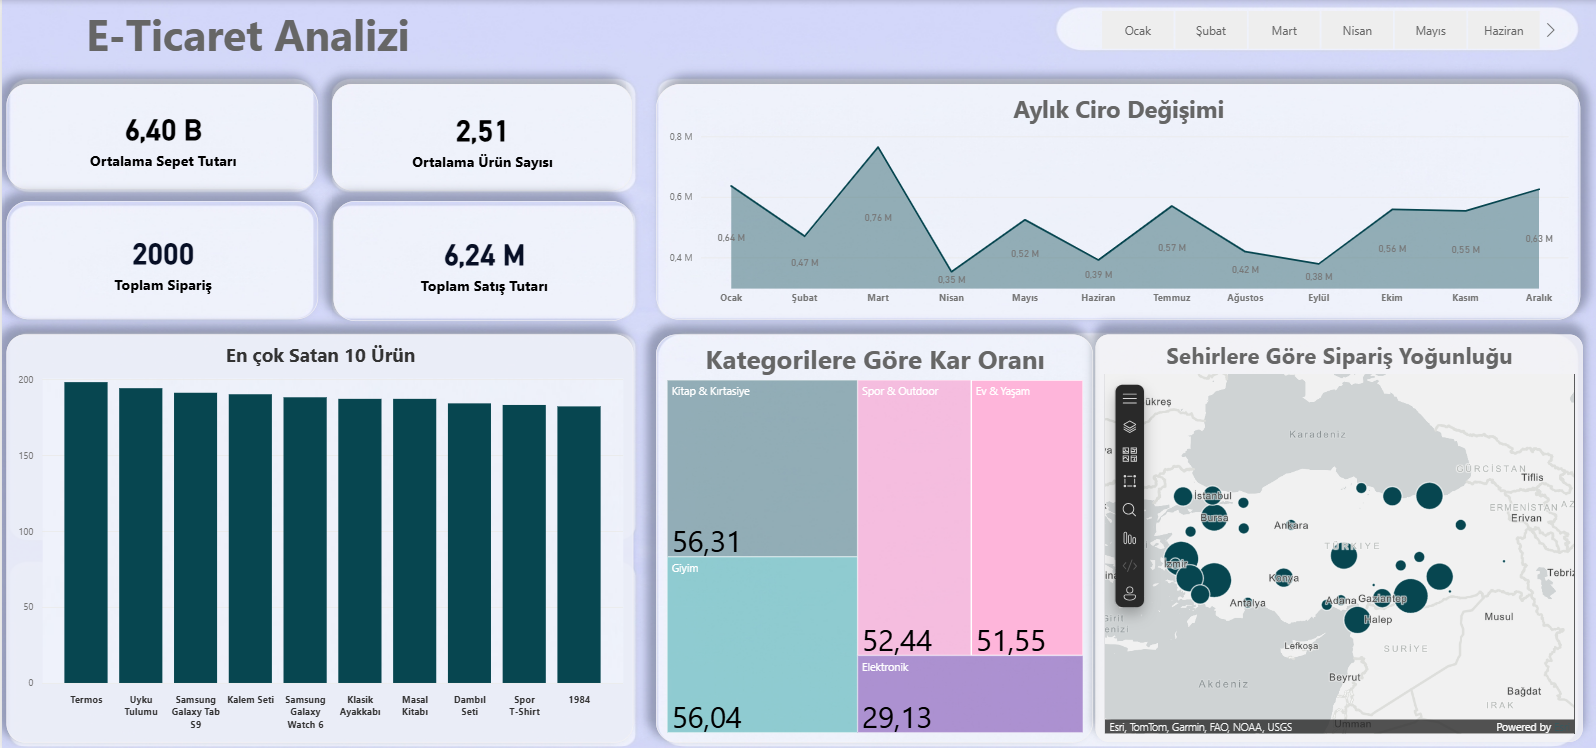

The dashboard page shown, as its layout file describes it:
{"tool":"powerbi","page":{"name":"1. sayfa","canvas":[1800,850],"ordinal":0},"visuals":[{"type":"clusteredColumnChart","title":"En çok Satan 10 Ürün","fields":{"Category":["public vw_top10_urun.urun_adi"],"Y":["Sum(public vw_top10_urun.toplam_miktar)"]},"box":[4.4,377.3,706.6,460.2],"z":0},{"type":"card","fields":{"Values":["public siparisdetay.Ortalama Ürün Sayısı"]},"box":[372,94,338,120],"z":1000},{"type":"card","fields":{"Values":["public siparisdetay.Ortalama Sepet Tutarı"]},"box":[4.4,94.5,351.5,118.6],"z":2000},{"type":"esriVisual","title":"Sehirlere Göre Sipariş Yoğunluğu","fields":{"Size":["Sum(public vw_illere_gore.count)"],"Location":["public vw_illere_gore.sehir"]},"box":[1232.5,377.9,549.2,459.2],"z":3000},{"type":"treemap","title":"Kategorilere Göre Kar Oranı","fields":{"Group":["public kategoriler.kategori_adi"],"Values":["Avg(public urunler.Kar Oranı)"]},"box":[737.2,377.3,492.9,460.2],"z":4000},{"type":"card","fields":{"Values":["public kategoriler.Toplam Sipariş"]},"box":[4.4,226.8,351.1,133],"z":5000},{"type":"card","fields":{"Values":["public musteriler.Toplam Satış Tutarı"]},"box":[372.9,226.8,338,135.2],"z":6000},{"type":"stackedAreaChart","title":"Aylık Ciro Değişimi","fields":{"Y":["public siparisdetay.Toplam Ciro"],"Category":["public siparisler.siparis_tarihi.Varyasyon.Tarih Hiyerarşisi.Ay"]},"box":[738,94,1042,266],"z":7000},{"type":"slicer","fields":{"Values":["public siparisler.siparis_tarihi.Varyasyon.Tarih Hiyerarşisi.Ay"]},"box":[1214.8,4.4,543.1,56.7],"z":8000},{"type":"textbox","box":[89.4,0,937.8,93.8],"z":9000}]}

Visuals, with their boxes in screenshot pixels (x1, y1, x2, y2), scaled from the page's 1800x850 canvas onto the 1596x748 screenshot:
"En çok Satan 10 Ürün" clusteredColumnChart: box=[4, 332, 630, 737]
card - public siparisdetay.Ortalama Ürün Sayısı: box=[330, 83, 630, 188]
card - public siparisdetay.Ortalama Sepet Tutarı: box=[4, 83, 316, 188]
"Sehirlere Göre Sipariş Yoğunluğu" esriVisual: box=[1093, 333, 1580, 737]
"Kategorilere Göre Kar Oranı" treemap: box=[654, 332, 1091, 737]
card - public kategoriler.Toplam Sipariş: box=[4, 200, 315, 317]
card - public musteriler.Toplam Satış Tutarı: box=[331, 200, 630, 319]
"Aylık Ciro Değişimi" stackedAreaChart: box=[654, 83, 1578, 317]
slicer - public siparisler.siparis_tarihi.Varyasyon.Tarih Hiyerarşisi.Ay: box=[1077, 4, 1559, 54]
textbox: box=[79, 0, 911, 83]
